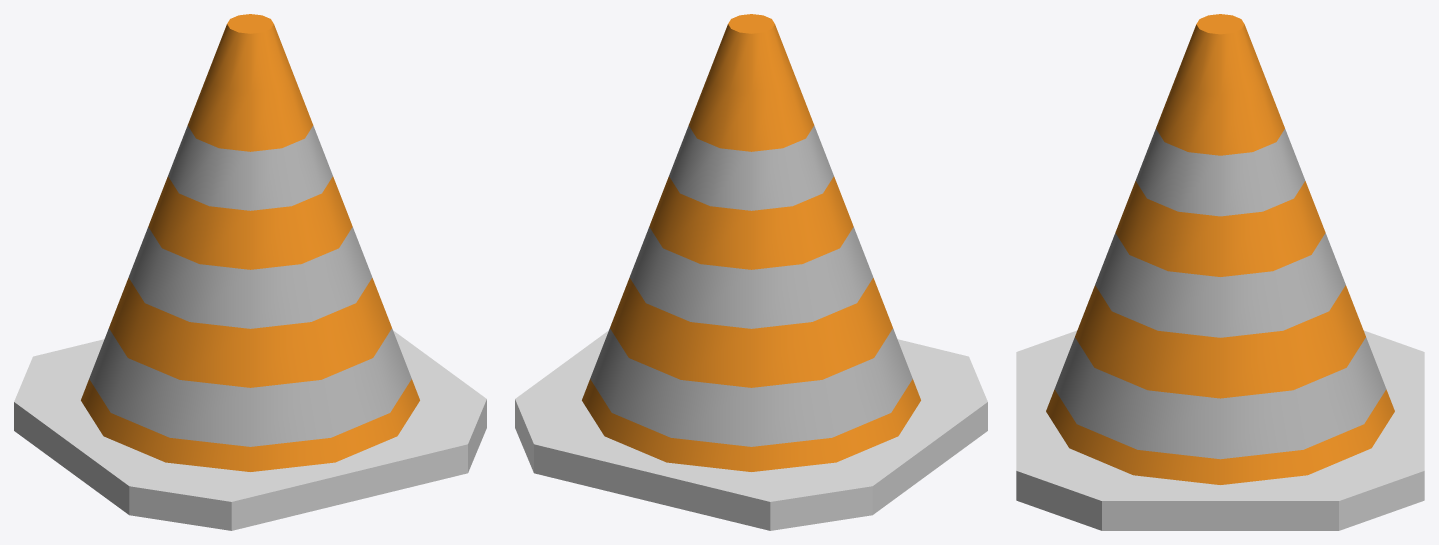
File: StreetConeObject.FBX
The picture shows the model from 3 angles, left to right: view 1: azimuth 30°, elevation 25°; view 2: azimuth 150°, elevation 25°; view 3: azimuth 270°, elevation 25°; orthographic projection. The views are drawn at different scales.
Parts seen in each view (by area): view 1: Cone001, Box001; view 2: Cone001, Box001; view 3: Cone001, Box001.
Part boxes in pixels (<box>): Cone001: <box>81,14,419,471</box>; Box001: <box>14,330,486,530</box>; Cone001: <box>582,14,920,471</box>; Box001: <box>515,330,987,530</box>; Cone001: <box>1046,14,1394,484</box>; Box001: <box>1016,330,1424,530</box>.
Size of the model in its own units: 43.64 by 47.28 by 41.98.
